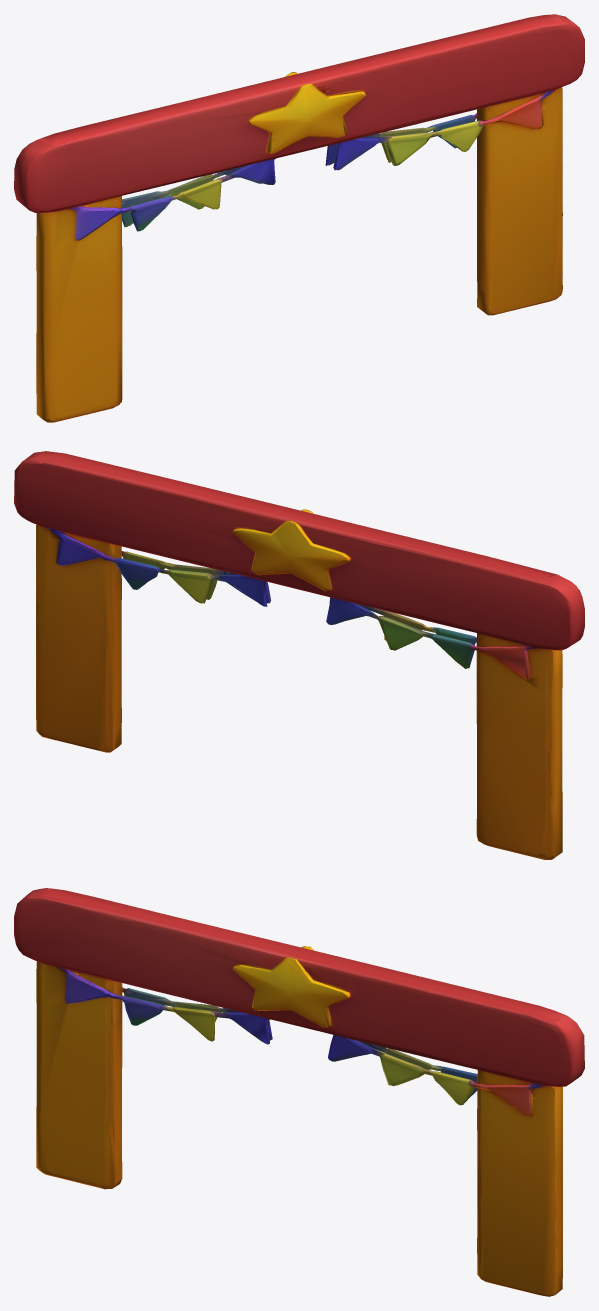
Rendered from PROP_C1_FINISHARCH_game.glb.
3 views of the same model, one above another, from view 1: azimuth 30°, elevation 25°; view 2: azimuth 150°, elevation 25°; view 3: azimuth 330°, elevation 25° (orthographic).
Visible parts, largest first — view 1: PROP_C1_FINISHARCH; view 2: PROP_C1_FINISHARCH; view 3: PROP_C1_FINISHARCH.
Part boxes in pixels (x1=…): PROP_C1_FINISHARCH: x1=14, y1=14, x2=584, y2=422; PROP_C1_FINISHARCH: x1=14, y1=451, x2=584, y2=859; PROP_C1_FINISHARCH: x1=14, y1=888, x2=584, y2=1296.
Bounding box in the file's own units: 9.4 × 4.5 × 0.5979.
Materials: 1 (1 with a texture image).
